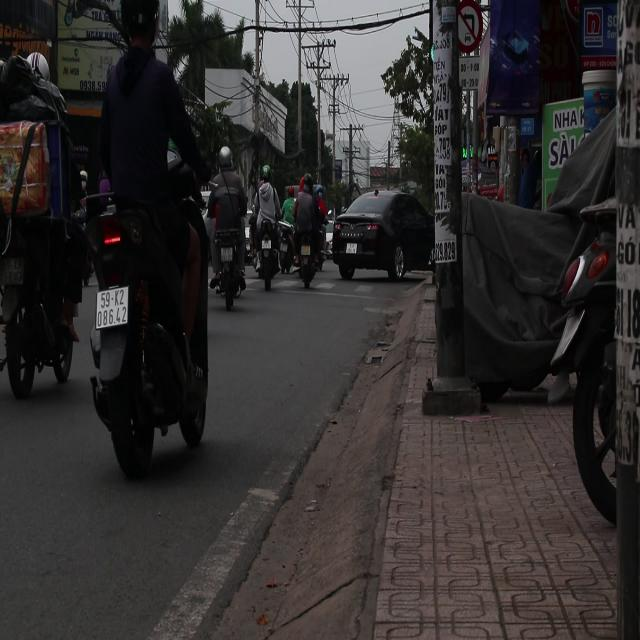car: (331, 190, 433, 280)
motorbike: (79, 181, 209, 468), (2, 218, 82, 400), (208, 214, 250, 308), (250, 215, 283, 292), (295, 232, 327, 289)
